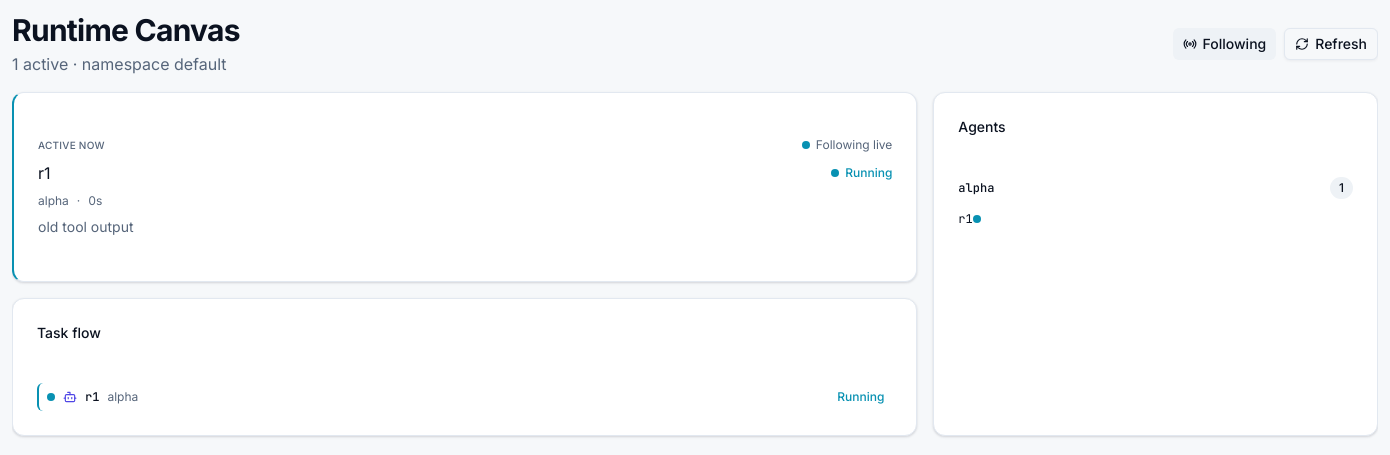
RuntimeCanvas › refreshes the active task spotlight event while following is paused
expect the text "old tool output" is shown: met, box [38, 218, 134, 235]
What coordinates should you click on to do the following:
click the button "Following"
I would click on:
 (1224, 44)
Its box is [1172, 28, 1276, 60].
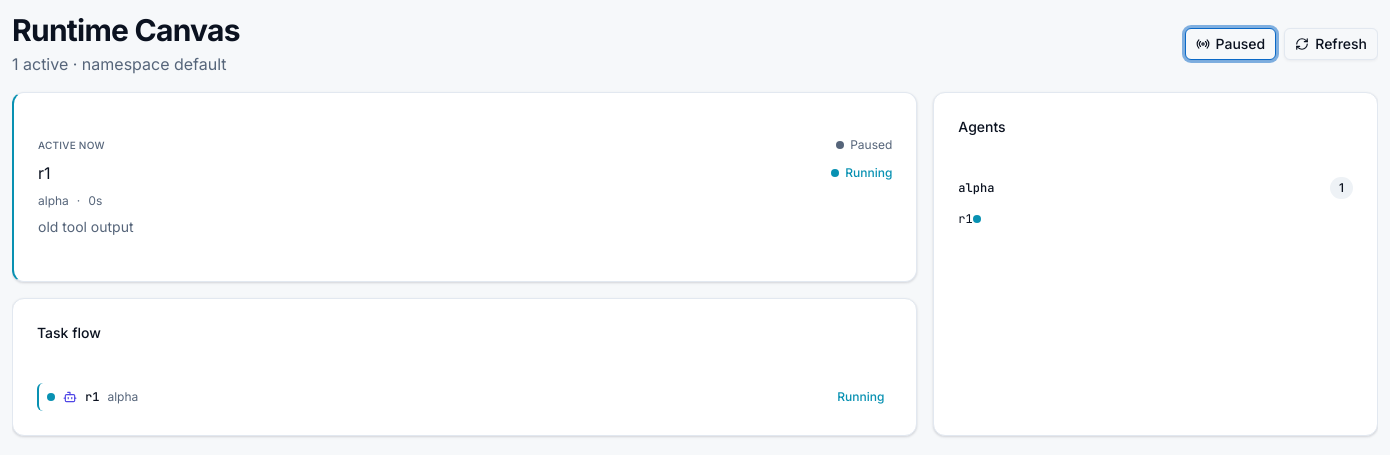
What coordinates should you click on to do the following:
click the button "Refresh"
I would click on:
 (1331, 44)
Its box is [1284, 28, 1378, 60].
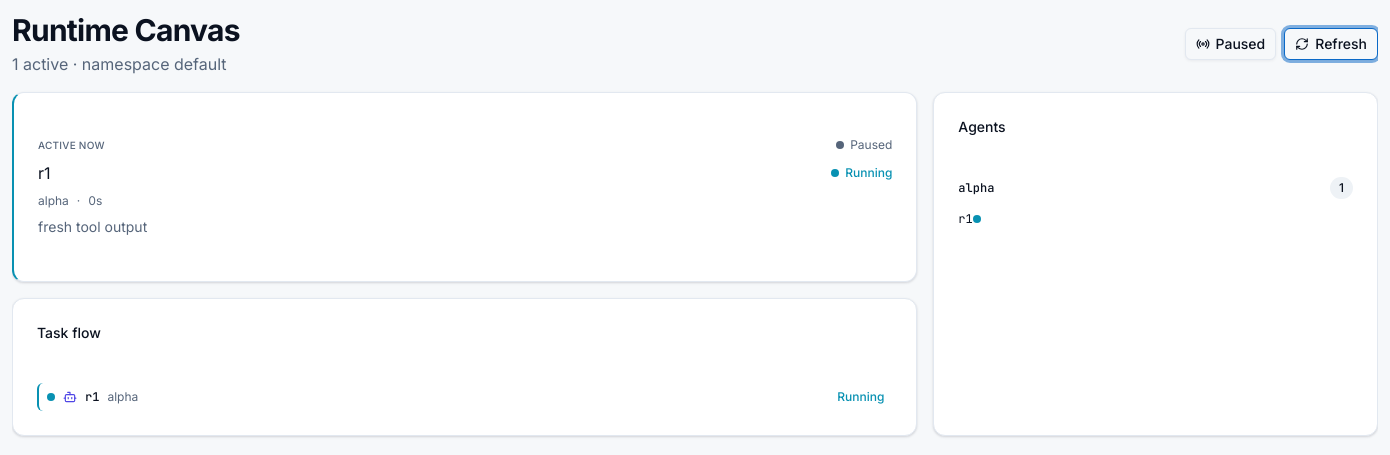
expect the text "fresh tool output" is shown: met, box [38, 218, 147, 235]
